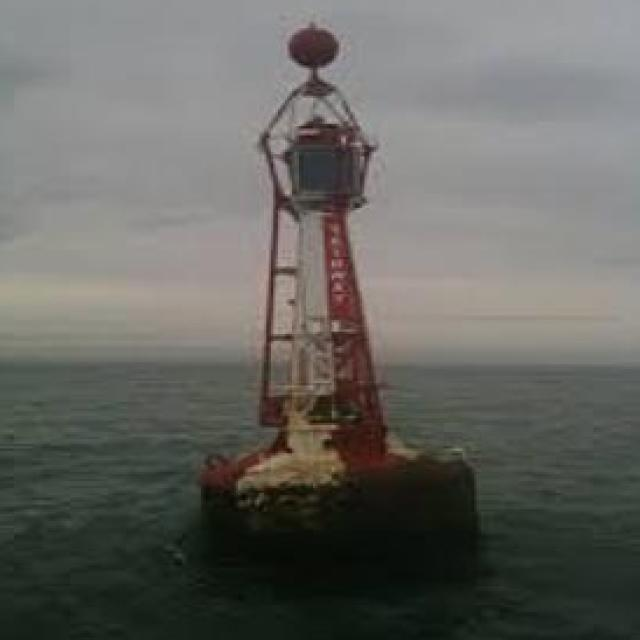buoy: (195, 14, 471, 536)
